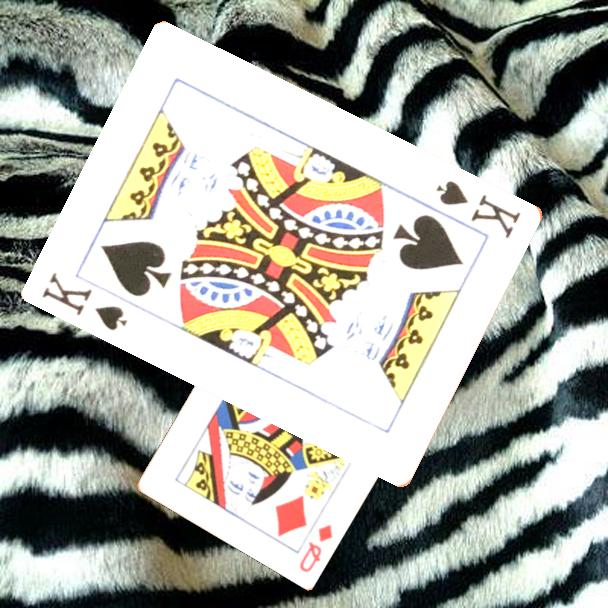d12: (295, 520, 335, 575)
s13: (38, 268, 131, 334), (432, 176, 524, 242)
